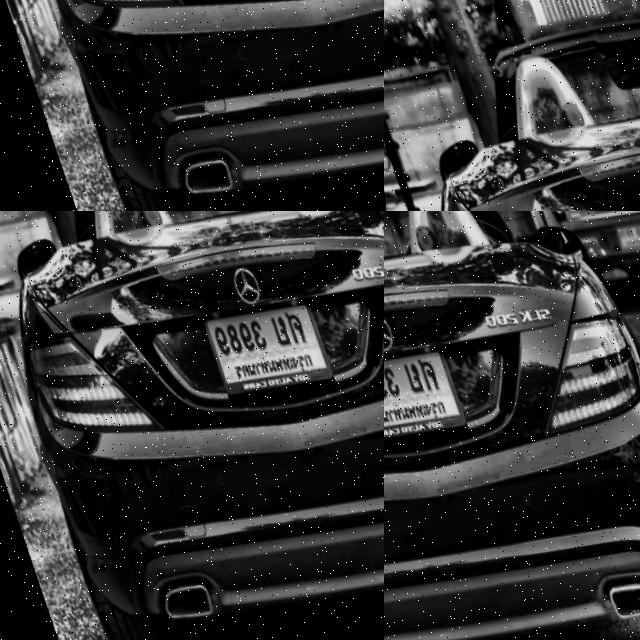license-plate: (43, 211, 384, 478), (384, 312, 468, 458)
